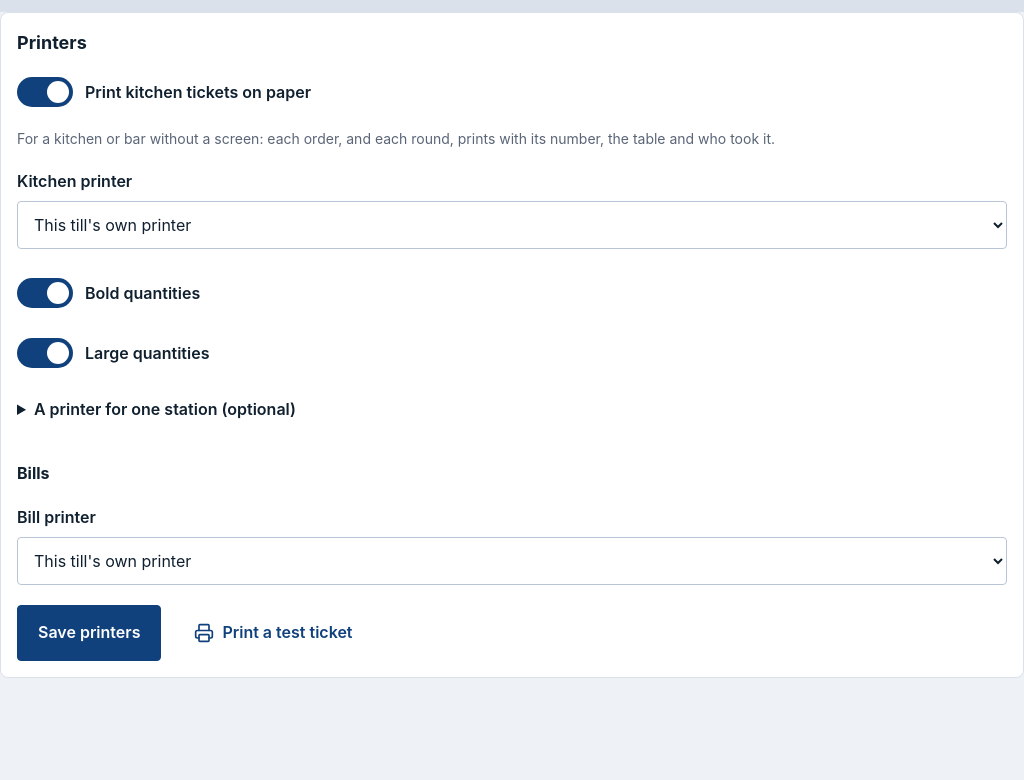
Status → Printers (S8a) › sends receipts to the receipt printer and opens its cash drawer for cash; a test receipt opens it too (S8b)
Select "EPSON TM-T20" in the dropdown labelled "Bill printer": {"x": 512, "y": 561} [17,537,1007,585]
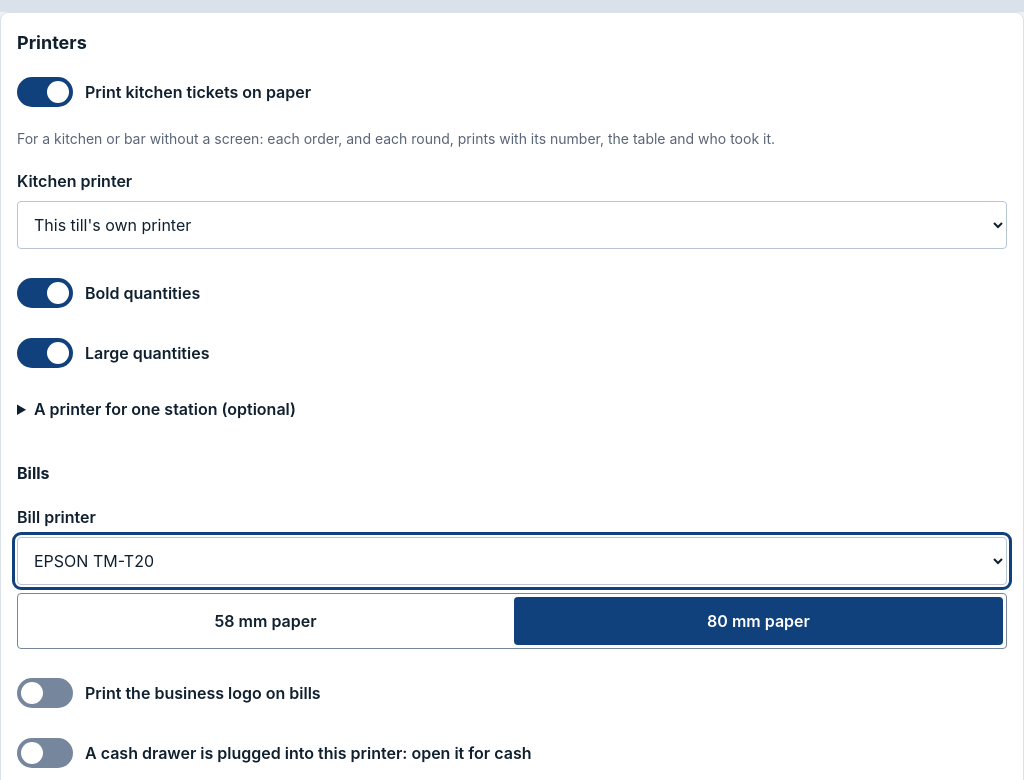
Click the switch with test id "cash-drawer-on": {"x": 45, "y": 753} [17,729,73,777]
(page scrolled)
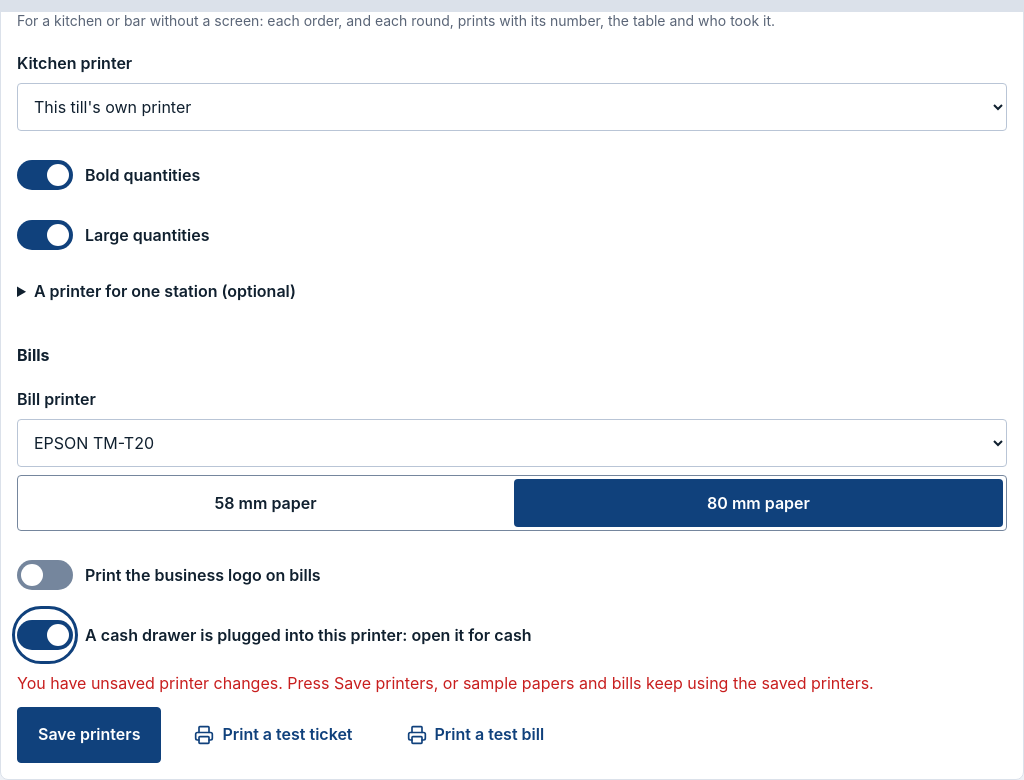
Click the button with test id "save-printers": {"x": 89, "y": 735} [17,707,161,763]
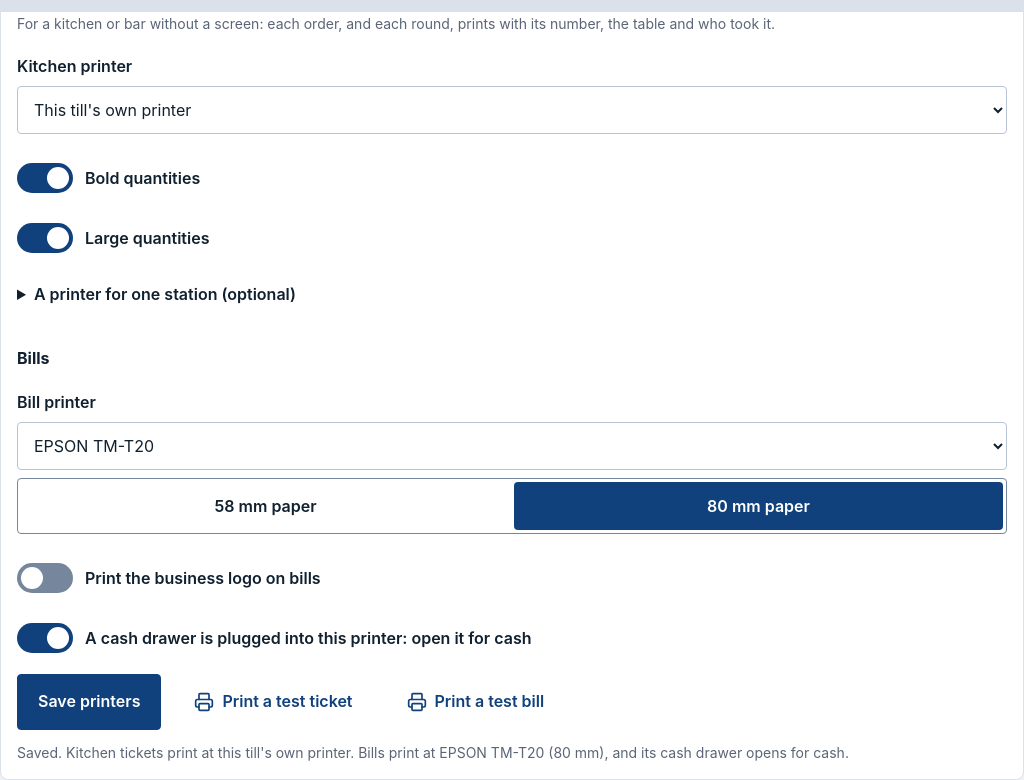
Now the message with test id "printers-words" shows "Bills print at EPSON TM-T20 (80 mm), and its cash drawer opens for cash.", box [17,744,849,761]
Click the button with test id "test-receipt-printer": {"x": 475, "y": 702} [386,674,565,730]
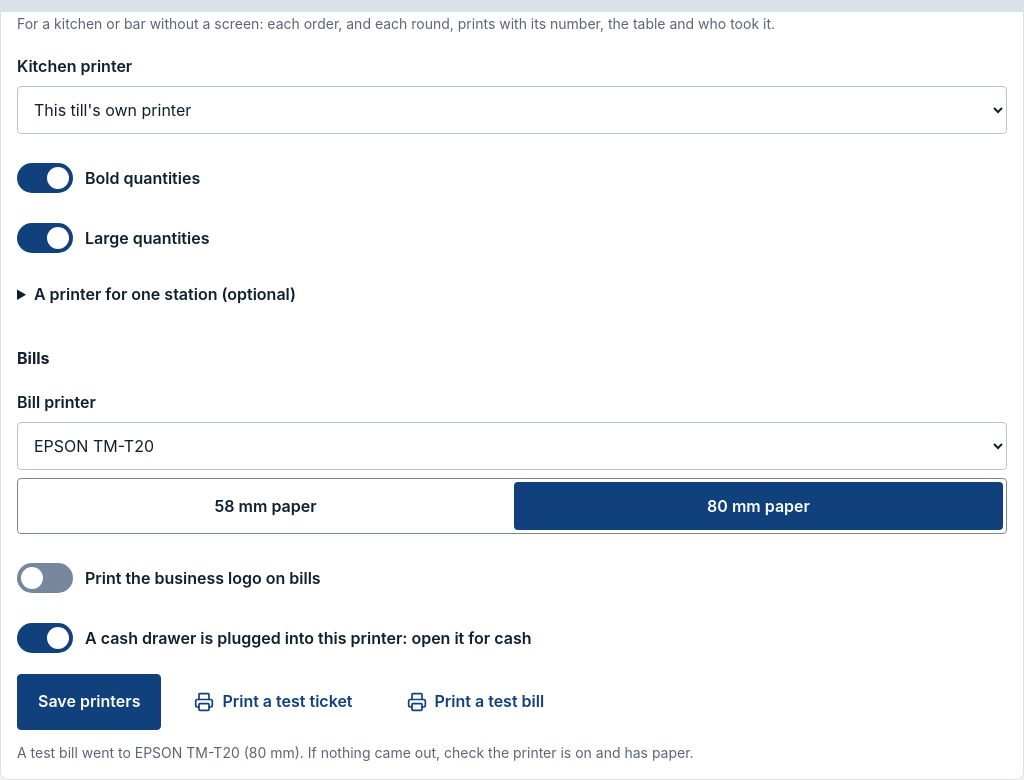
Now the message with test id "printers-words" shows "A test bill went to EPSON TM-T20 (80 mm).", box [17,744,694,761]
# Back to this till's own printer: no drawer to open.
Select "This till's own printer" in the dropdown labelled "Bill printer": {"x": 512, "y": 446} [17,422,1007,470]
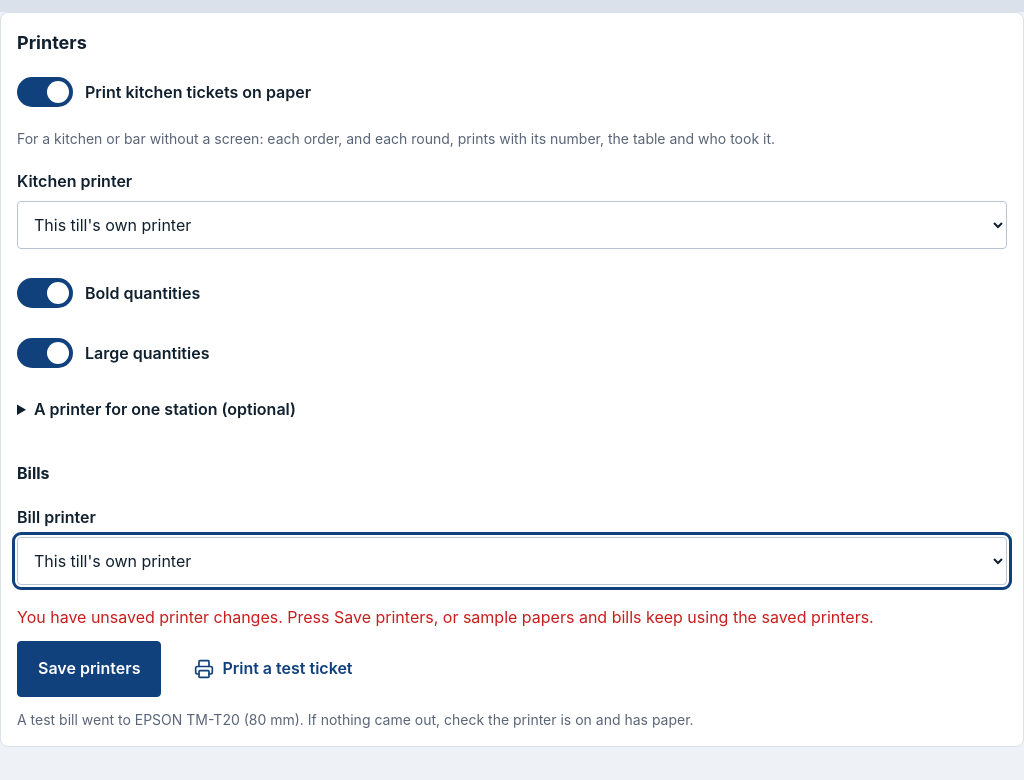
Now the switch with test id "cash-drawer-on" is gone
Click the button with test id "save-printers": {"x": 89, "y": 669} [17,641,161,697]
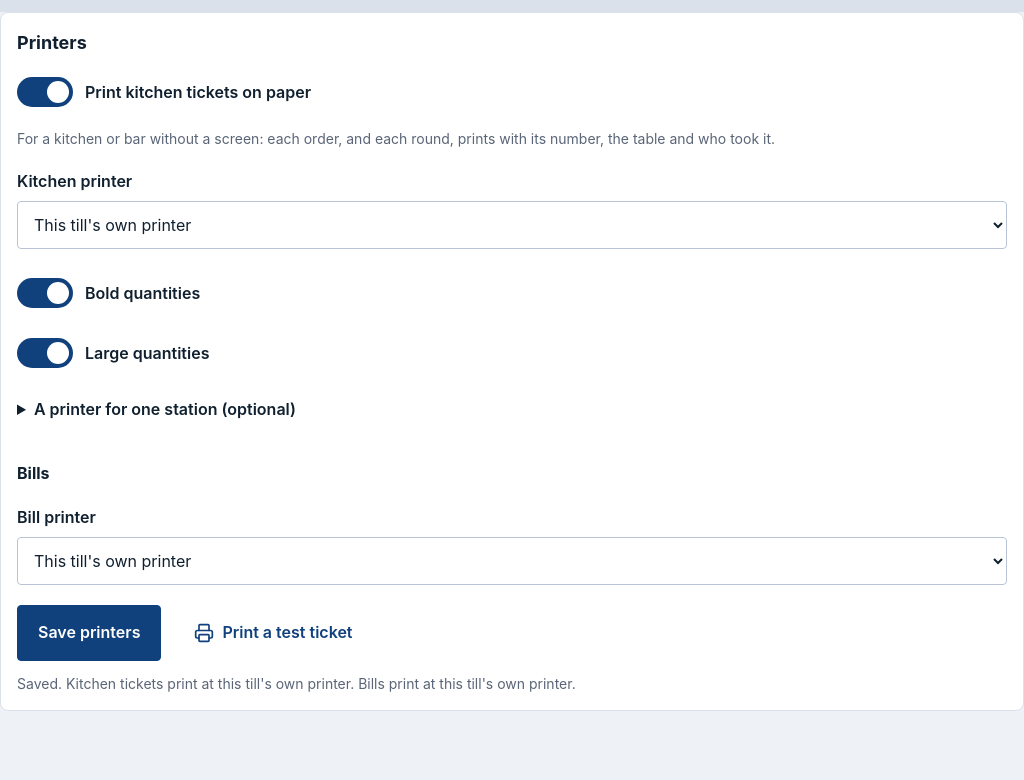
Now the message with test id "printers-words" shows "Bills print at this till's own printer.", box [17,675,576,692]
